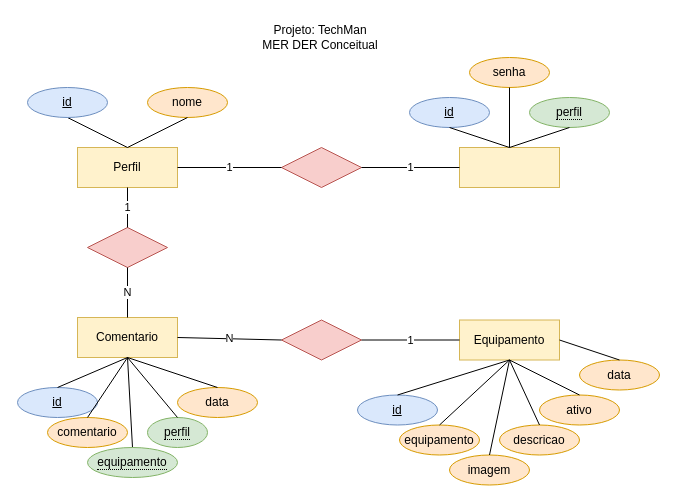
The diagram is 677 pixels wide and 502 high, and some of its shapes have lost their labels. The box of each missing label's shape, as (x1, y1, x2, y2) in pixels:
faz: (86, 226, 168, 268)
possui: (280, 146, 362, 188)
recebe: (280, 319, 362, 360)
Usuário: (458, 146, 560, 188)
